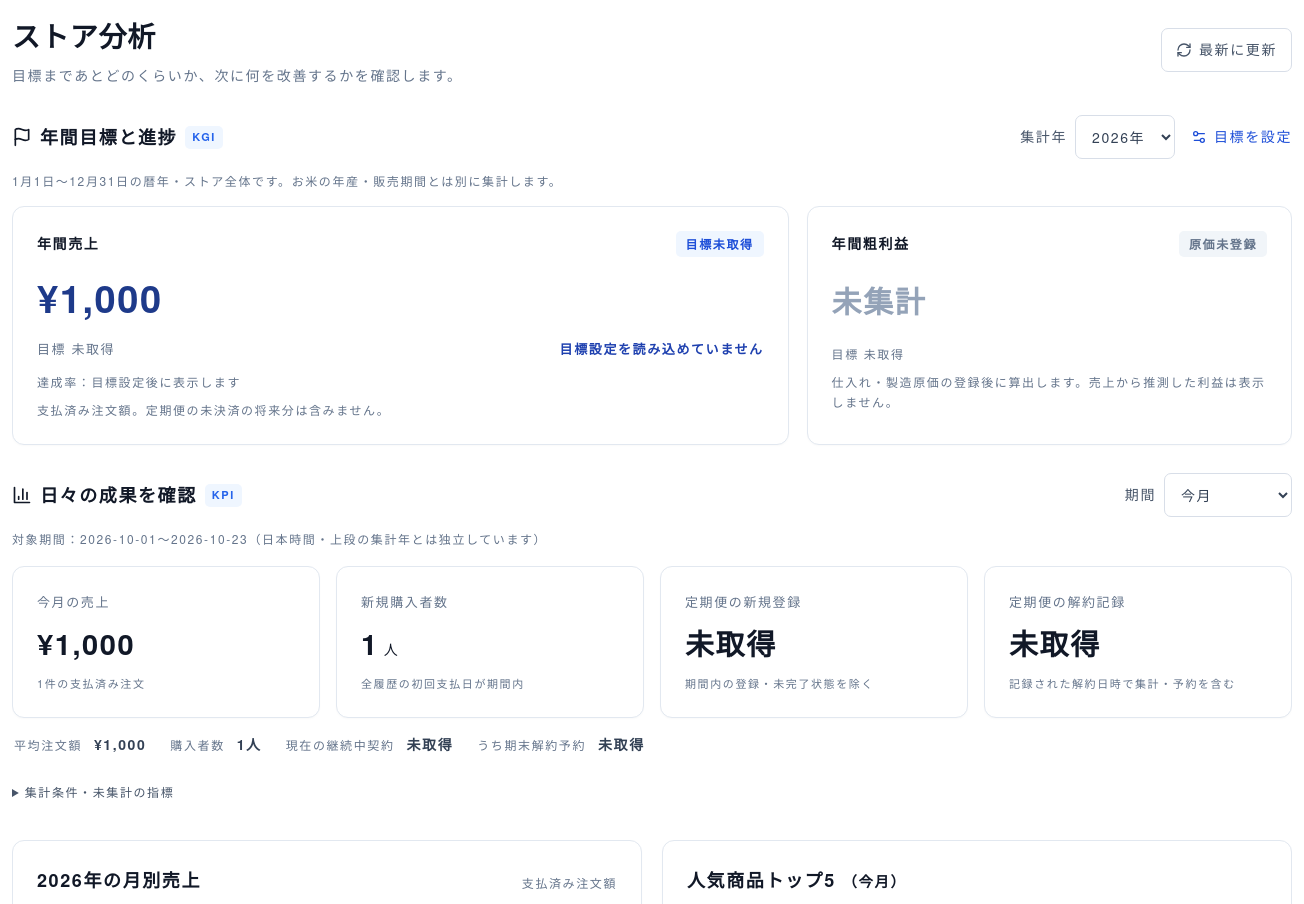
Scenario: blocks target saving if the settings table was not loaded
Click the button "目標を設定".
click(1242, 137)  # box top-left (1191, 115), bottom-right (1292, 159)
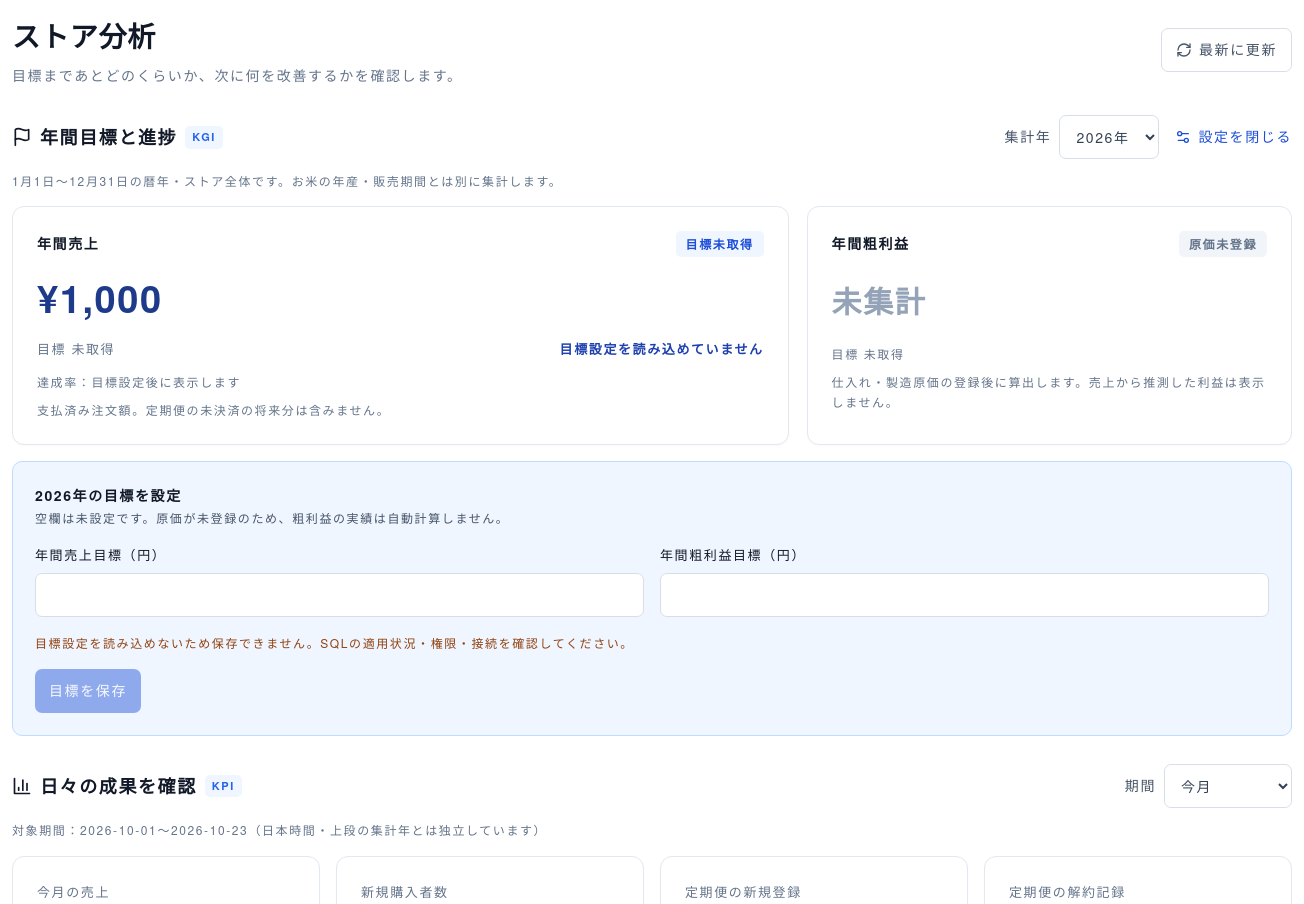
Expected: the text "目標未取得" is shown, top-left (676, 231), bottom-right (764, 257)
Now the button "目標を保存" is disabled, box top-left (35, 669), bottom-right (141, 713)
